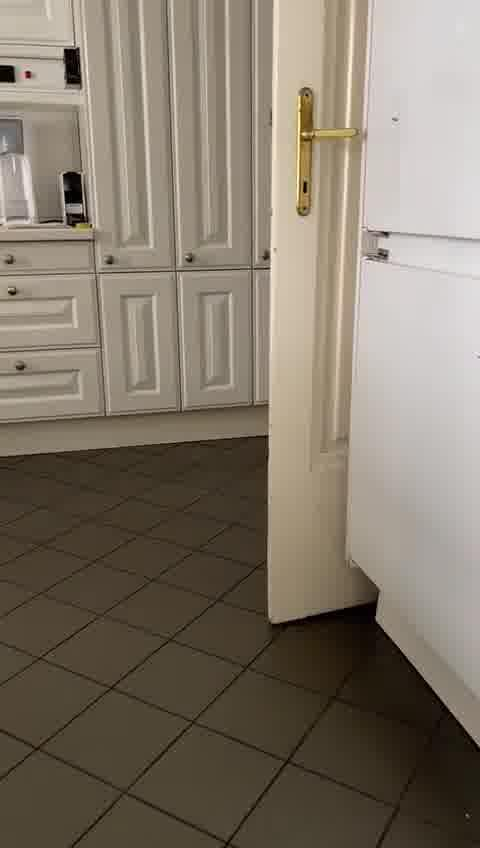cabinet_door: (88, 0, 171, 273), (174, 0, 254, 270), (95, 277, 185, 412), (183, 270, 257, 410), (0, 280, 95, 354), (1, 349, 100, 415), (0, 245, 90, 277)
handle: (298, 115, 359, 157), (98, 250, 119, 272), (183, 246, 197, 271), (14, 359, 28, 379), (6, 283, 19, 302), (3, 251, 16, 268)
